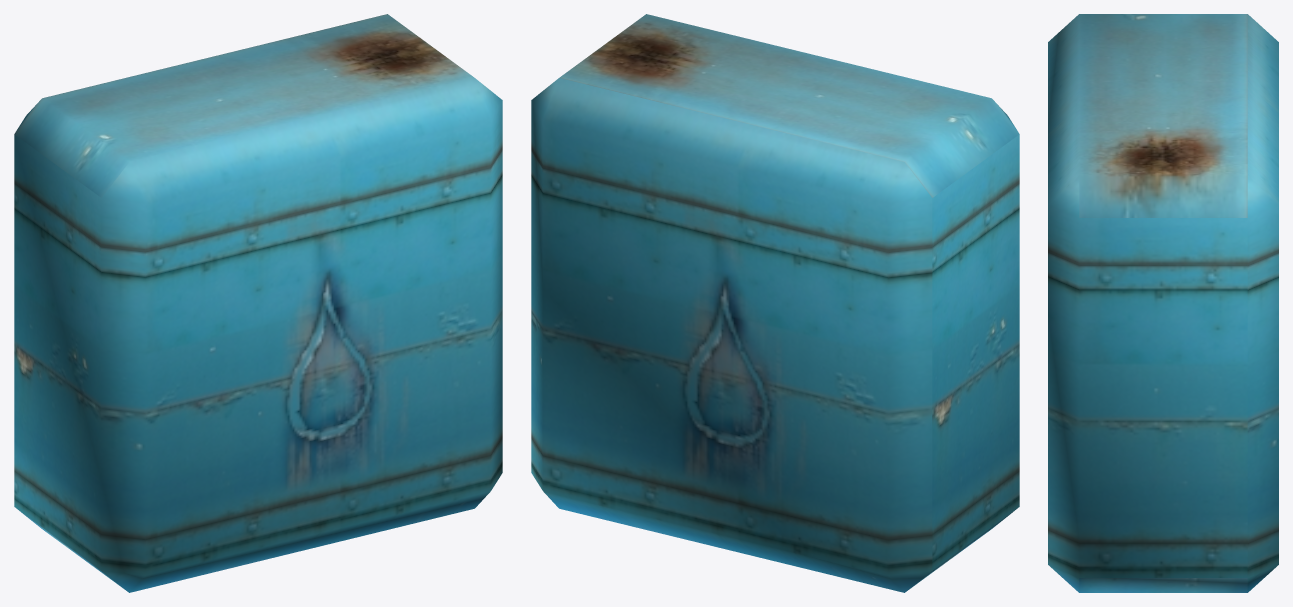
Rendered from water_canister.dae.
3 renders of one model, left to right at view 1: azimuth 30°, elevation 25°; view 2: azimuth 150°, elevation 25°; view 3: azimuth 270°, elevation 25°, orthographic. The views are drawn at different scales.
Visible parts, largest first — view 1: polySurface72; view 2: polySurface72; view 3: polySurface72.
Boxes of the visible parts, bbox=[...] form: polySurface72: bbox=[14, 14, 502, 592]; polySurface72: bbox=[531, 14, 1019, 592]; polySurface72: bbox=[1048, 14, 1278, 592].
Size of the model in its own units: 0.4771 by 0.4897 by 0.246.
